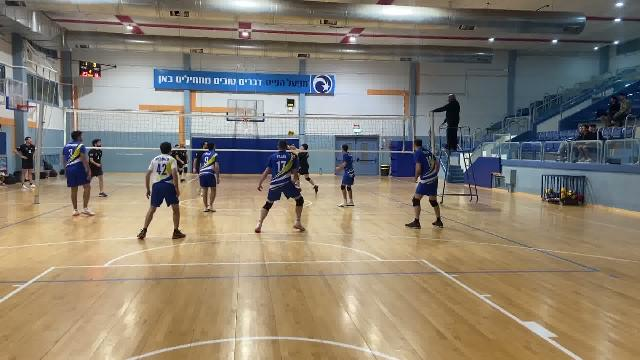ball: (287, 128, 296, 139)
